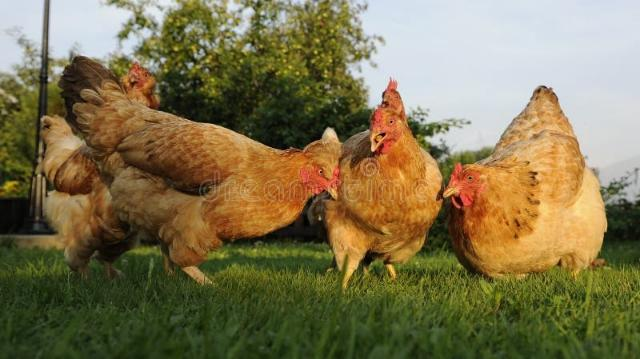Chicken: (74, 85, 343, 286), (441, 85, 607, 280), (39, 60, 160, 278), (321, 102, 445, 291)
